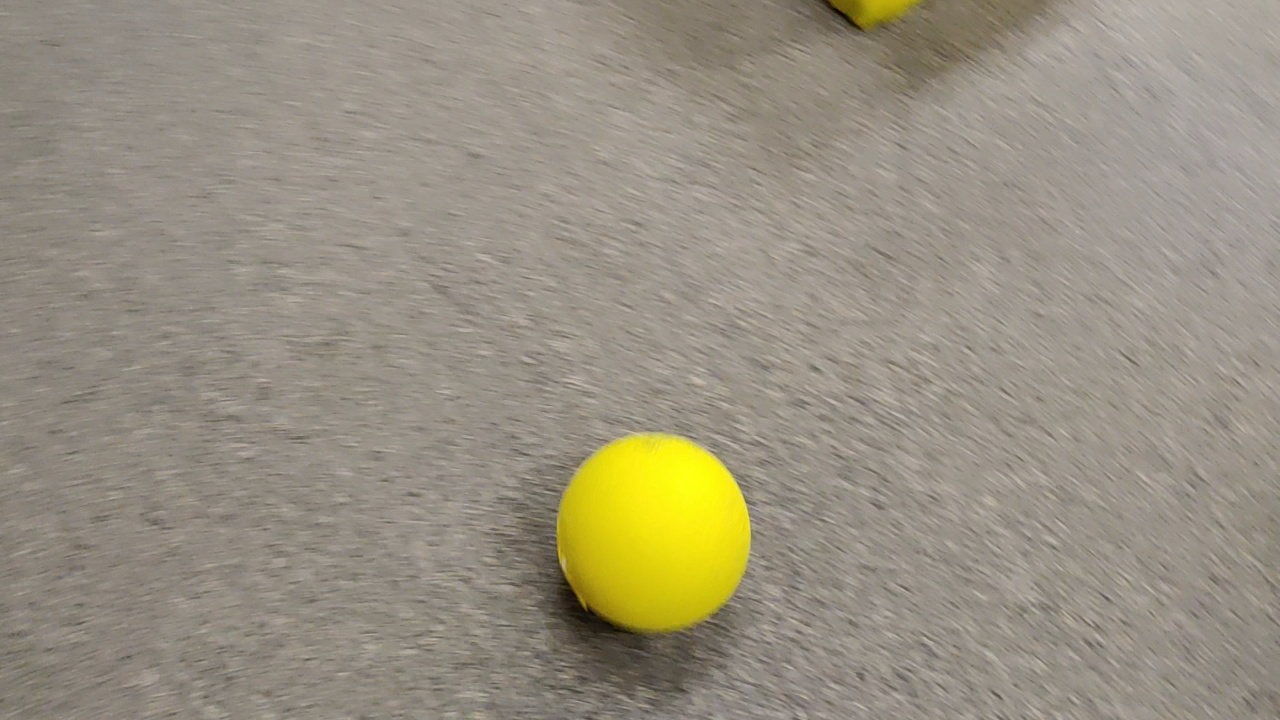Ball: (557, 434, 748, 631)
